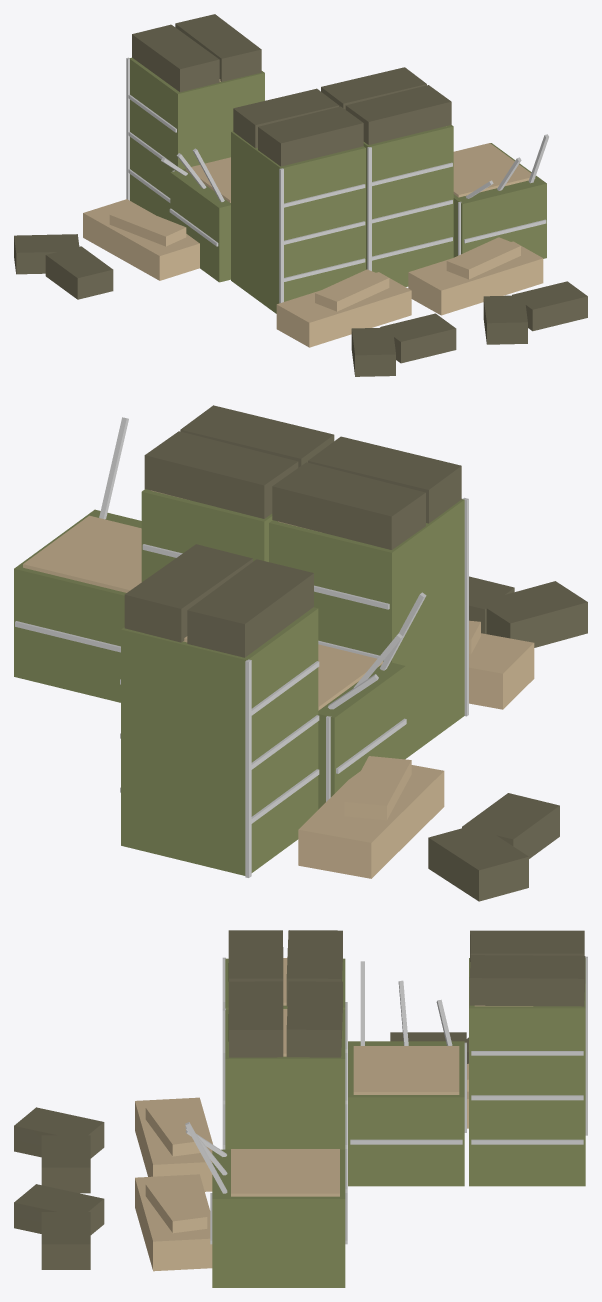
The model's file is SM_HescoEsquina_v3_RemateSacos_e1_Danado_LOD0.fbx.
The picture shows the model from 3 angles, top to bottom: view 1: azimuth 30°, elevation 25°; view 2: azimuth 150°, elevation 25°; view 3: azimuth 270°, elevation 25°; orthographic projection. The views are drawn at different scales.
Visible parts, largest first — view 1: SM_hesco_piezas_v13_LOD0; view 2: SM_hesco_piezas_v13_LOD0; view 3: SM_hesco_piezas_v13_LOD0.
Boxes of the visible parts, bbox=[...] form: SM_hesco_piezas_v13_LOD0: bbox=[14, 14, 587, 376]; SM_hesco_piezas_v13_LOD0: bbox=[14, 405, 587, 901]; SM_hesco_piezas_v13_LOD0: bbox=[14, 930, 587, 1287].
Bounding box in the file's own units: 5.25 × 2.09 × 5.27.
